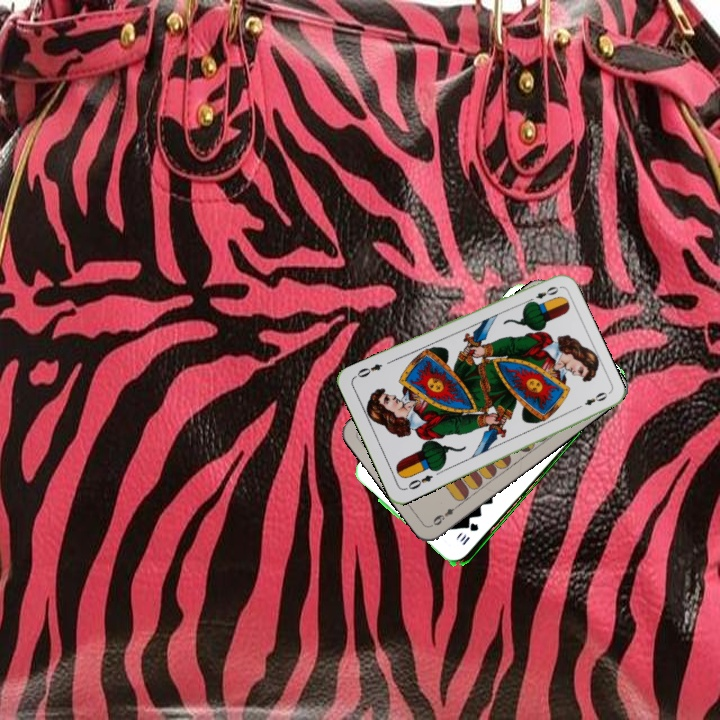E9: (429, 500, 463, 528)
EO: (523, 282, 561, 307), (401, 471, 435, 493)
G10: (458, 519, 481, 548)
